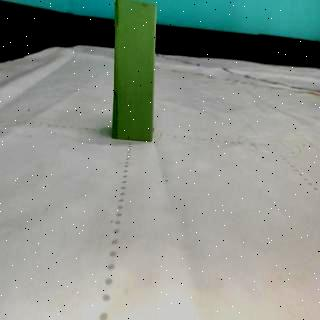greenbox: (114, 0, 158, 142)
